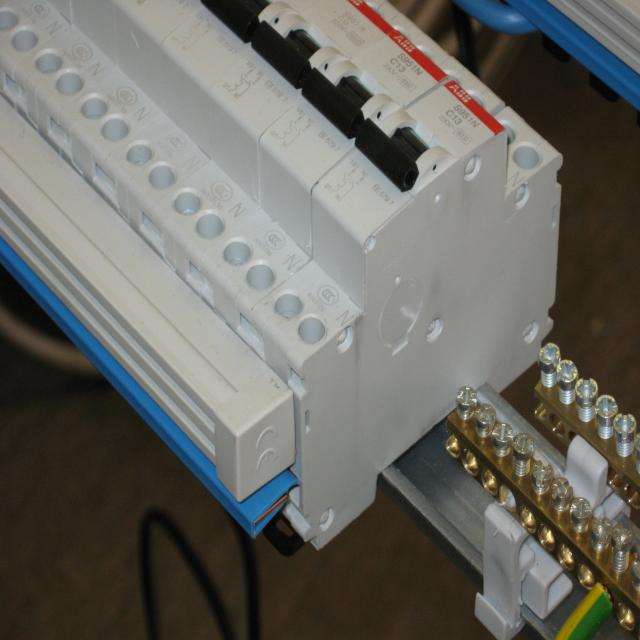Leitungsschutzschalter: (247, 76, 562, 397), (198, 27, 449, 351), (148, 0, 395, 301), (103, 4, 265, 249), (56, 2, 202, 203), (19, 3, 118, 155)
